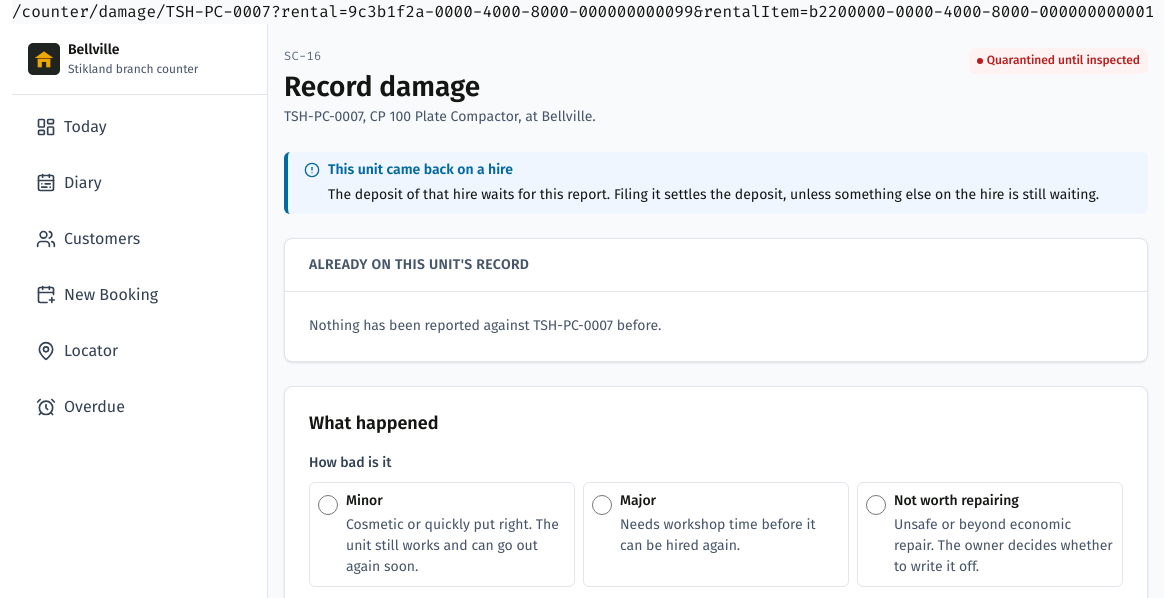
the form › refuses to send a form with no decision on charging, and ties each problem to its field
Click the 1st radio button.
click(328, 505)  # box [318, 495, 338, 515]
(page scrolled)
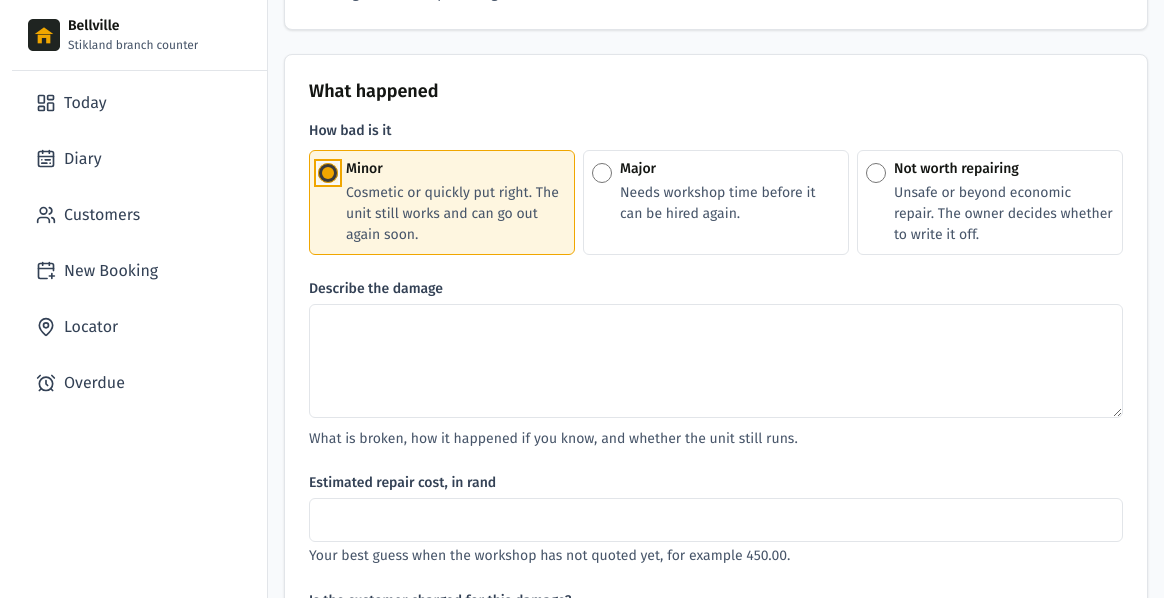
Type "Dent in the guard." into the text box labelled "Describe the damage".
click(716, 360); type("Dent in the guard.")  # box [309, 304, 1123, 418]
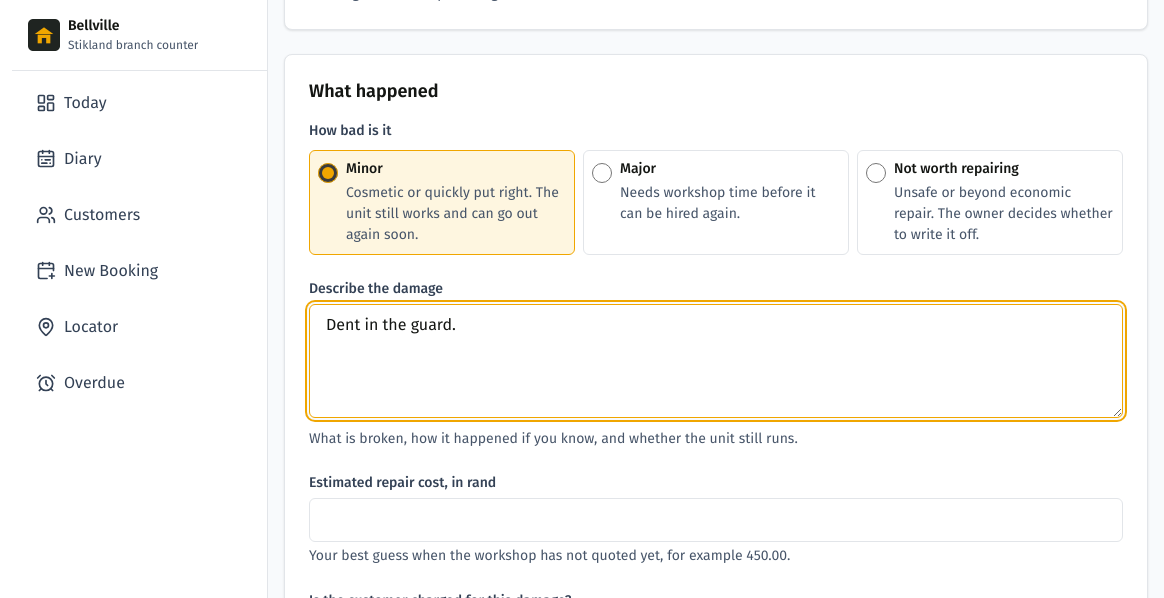
Type "50" into the field labelled "Estimated repair cost, in rand".
click(716, 520); type("50")  # box [309, 498, 1123, 542]
(page scrolled)
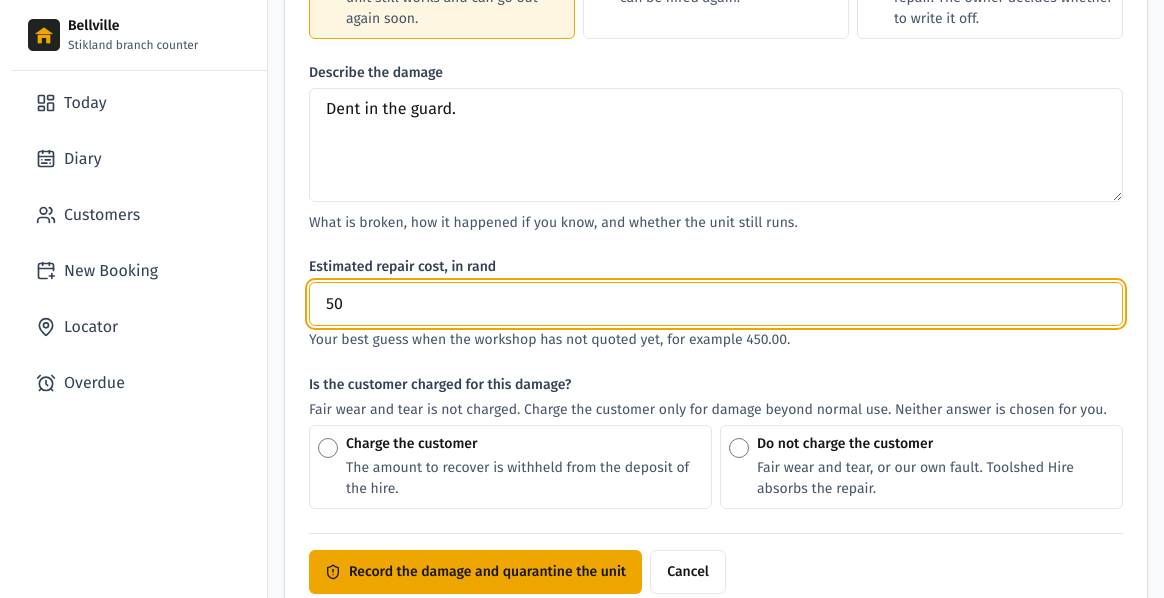
Click the button "Record the damage and quarantine the unit".
click(476, 572)  # box [309, 550, 642, 594]
(page scrolled)
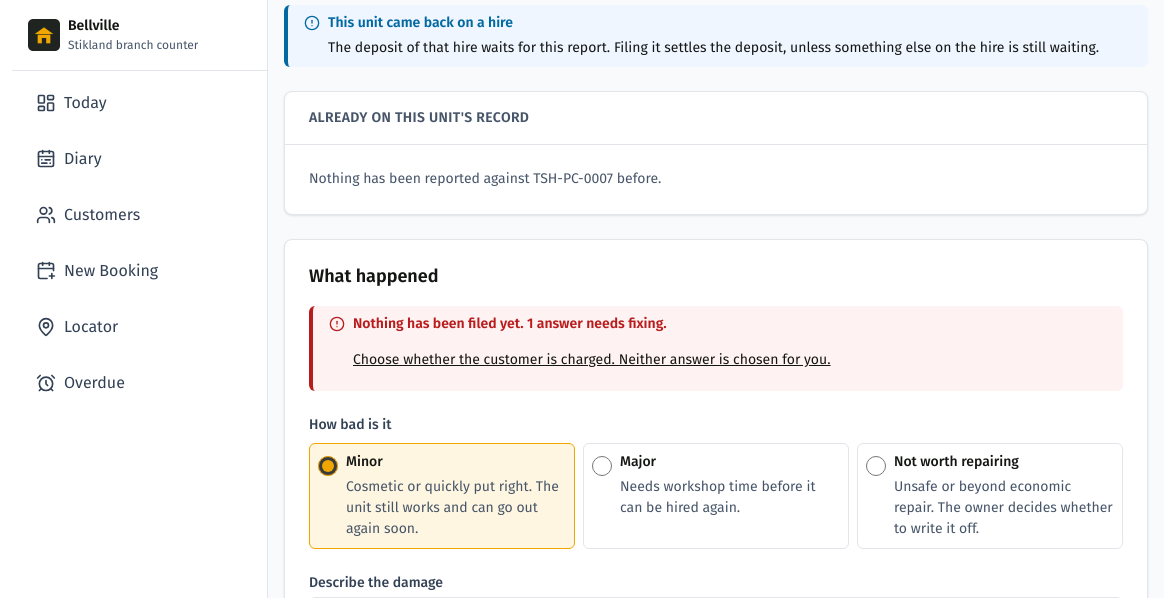
Expected: the 2nd message shows "Nothing has been filed yet. 1 answer needs fixing.", [353, 315, 667, 332]
